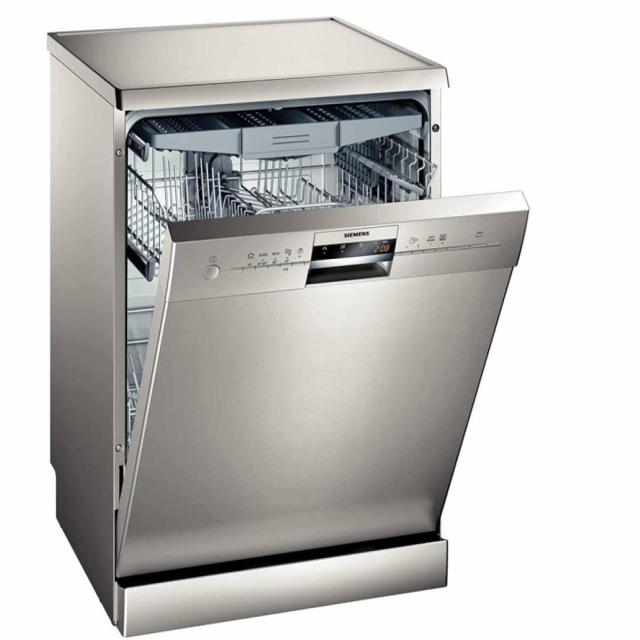dishwasher: (44, 15, 530, 638)
